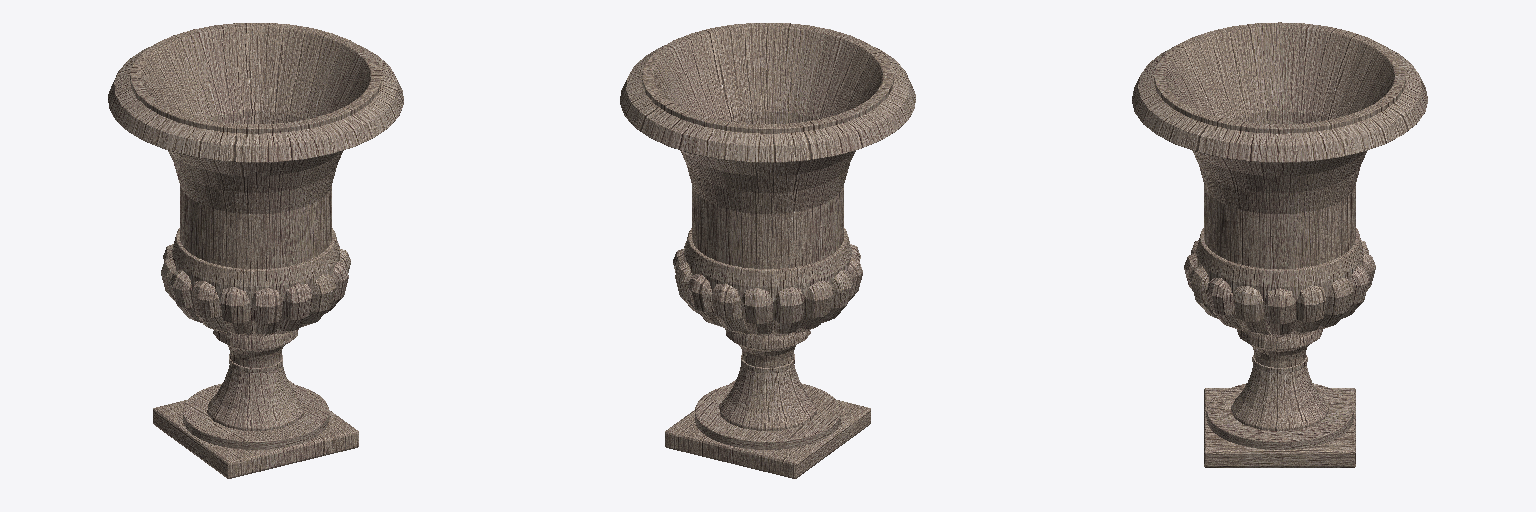
The picture shows the model from 3 angles: view 1: azimuth 30°, elevation 25°; view 2: azimuth 150°, elevation 25°; view 3: azimuth 270°, elevation 25°; orthographic projection.
Size of the model in its own units: 0.54 by 0.7248 by 0.54.
Materials: 1 (1 with a texture image).